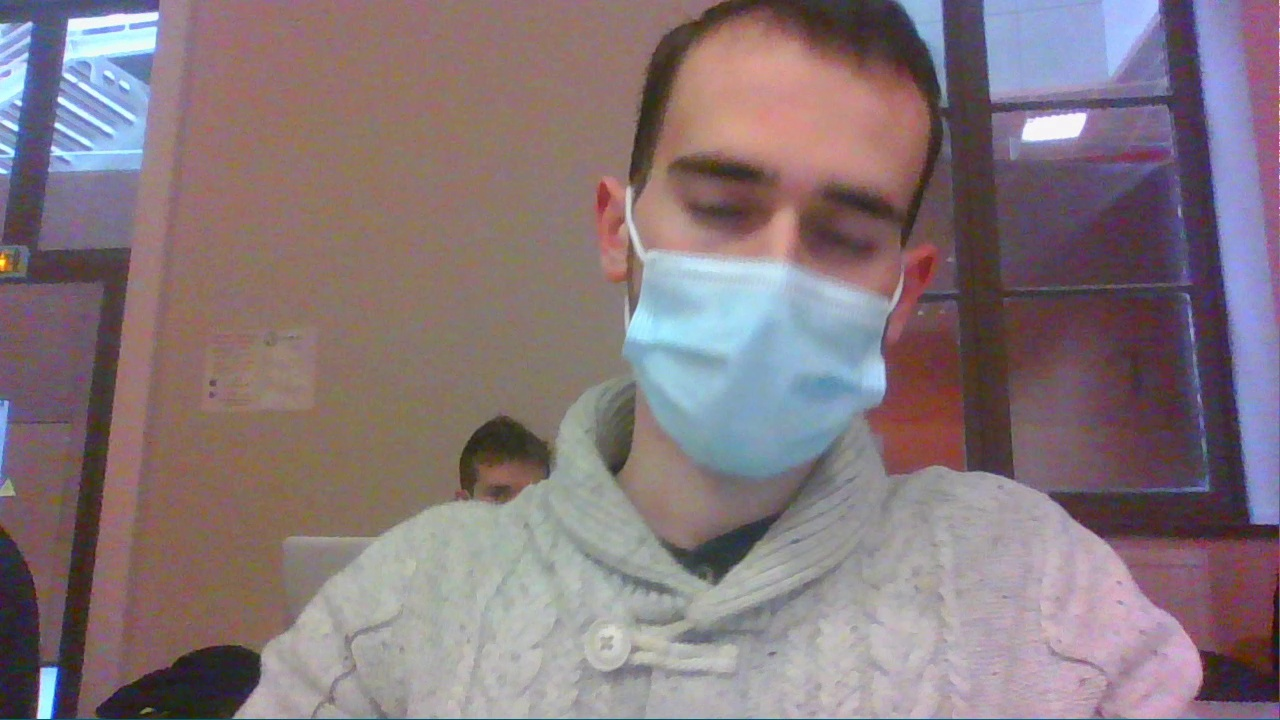mask: (569, 0, 927, 477)
